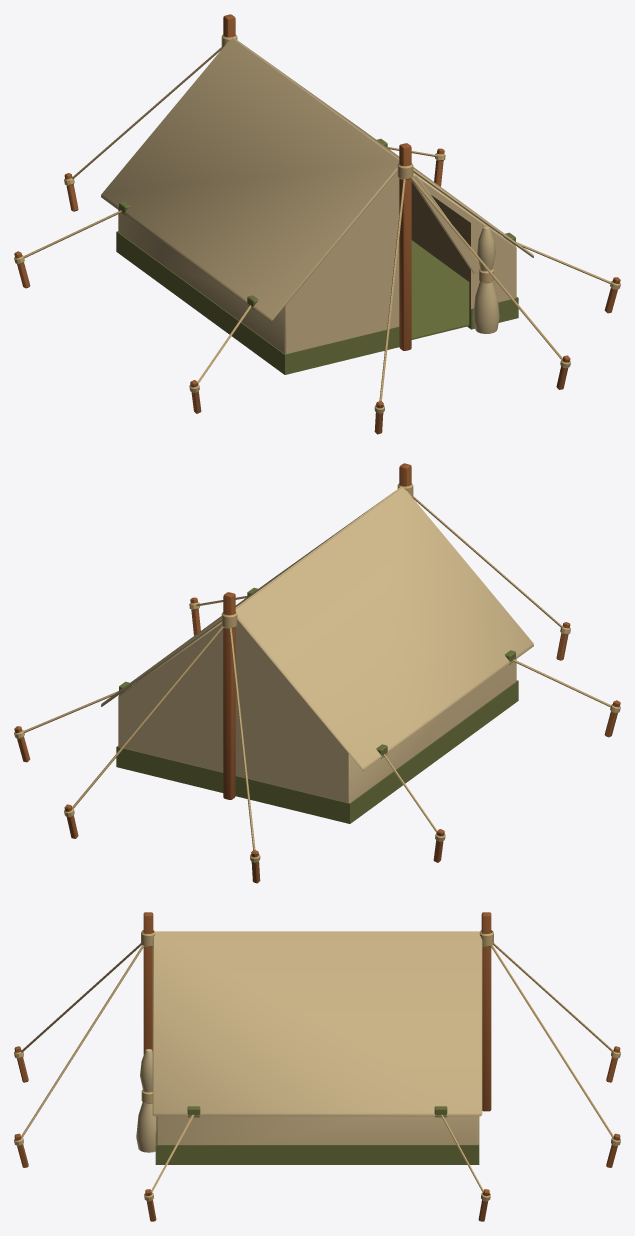
Rendered from Tent.fbx.
3 views of the same model, one above another, from view 1: azimuth 30°, elevation 25°; view 2: azimuth 150°, elevation 25°; view 3: azimuth 270°, elevation 25° (orthographic). The views are drawn at different scales.
Parts seen in each view (by area): view 1: Tent_Mesh; view 2: Tent_Mesh; view 3: Tent_Mesh.
Boxes of the visible parts, x1,y1,x2,y2 form: Tent_Mesh: (14,14,620,434); Tent_Mesh: (14,463,620,883); Tent_Mesh: (14,912,620,1221).
Bounding box in the file's own units: 4.45 × 2.17 × 5.65.
